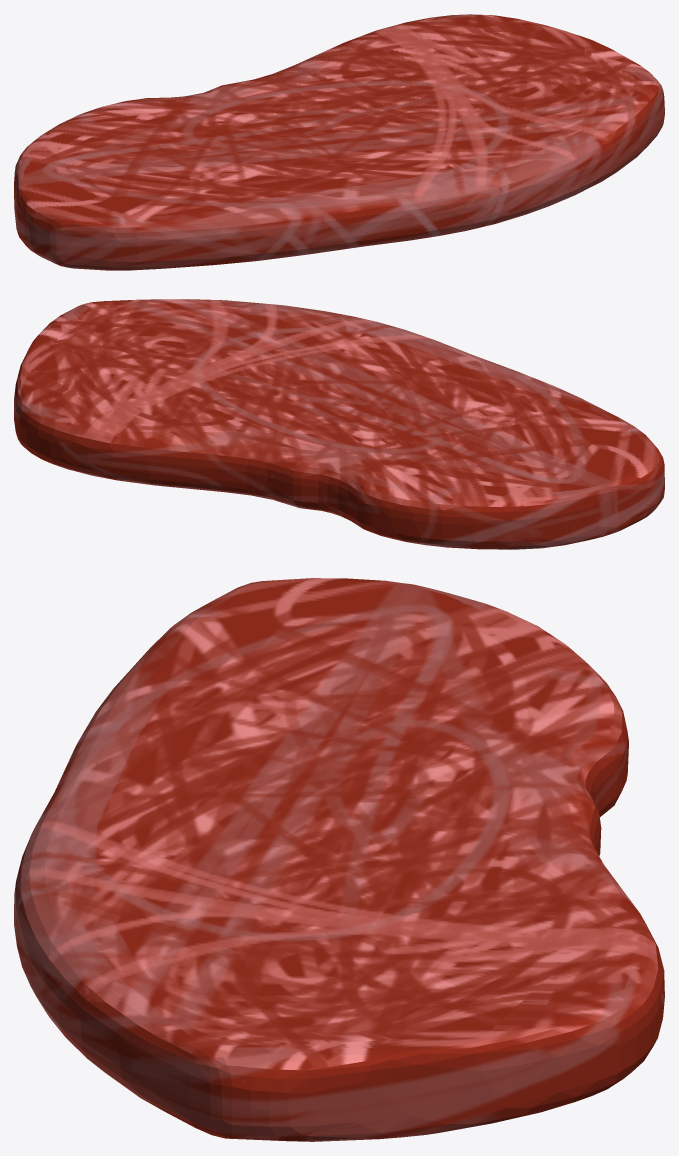
File: beef.fbx
3 views of the same model, one above another, from view 1: azimuth 30°, elevation 25°; view 2: azimuth 150°, elevation 25°; view 3: azimuth 270°, elevation 25° (orthographic). The views are drawn at different scales.
Visible parts, largest first — view 1: Cube; view 2: Cube; view 3: Cube.
Boxes of the visible parts, bbox=[...] form: Cube: bbox=[14, 14, 664, 270]; Cube: bbox=[14, 299, 664, 549]; Cube: bbox=[14, 578, 664, 1141].
Bounding box in the file's own units: 393 × 31.43 × 216.
1 material, 1 textured.
